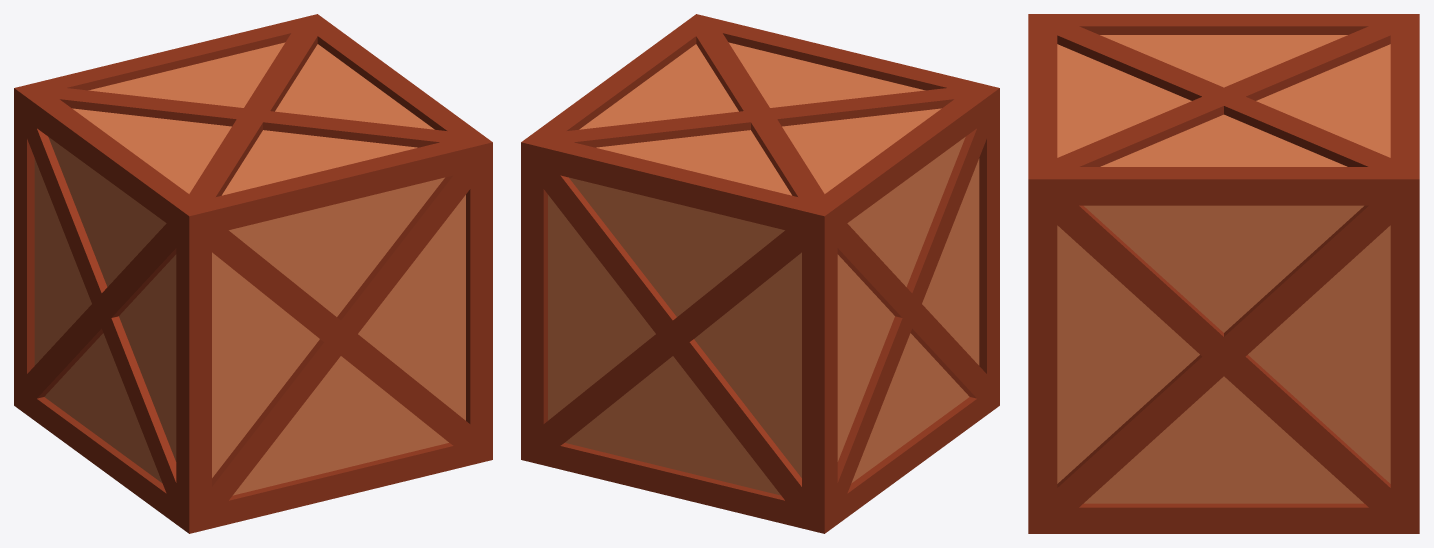
3 renders of one model, left to right at view 1: azimuth 30°, elevation 25°; view 2: azimuth 150°, elevation 25°; view 3: azimuth 270°, elevation 25°, orthographic. The views are drawn at different scales.
Visible parts, largest first — view 1: 立方体; view 2: 立方体; view 3: 立方体.
Part boxes in pixels (x1=…): 立方体: x1=14, y1=14, x2=492, y2=533; 立方体: x1=521, y1=14, x2=999, y2=533; 立方体: x1=1028, y1=14, x2=1419, y2=533.
Bounding box in the file's own units: 2 × 2 × 2.
Materials: 1 (1 with a texture image).
